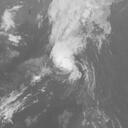cyclone: (49, 41, 88, 82)
